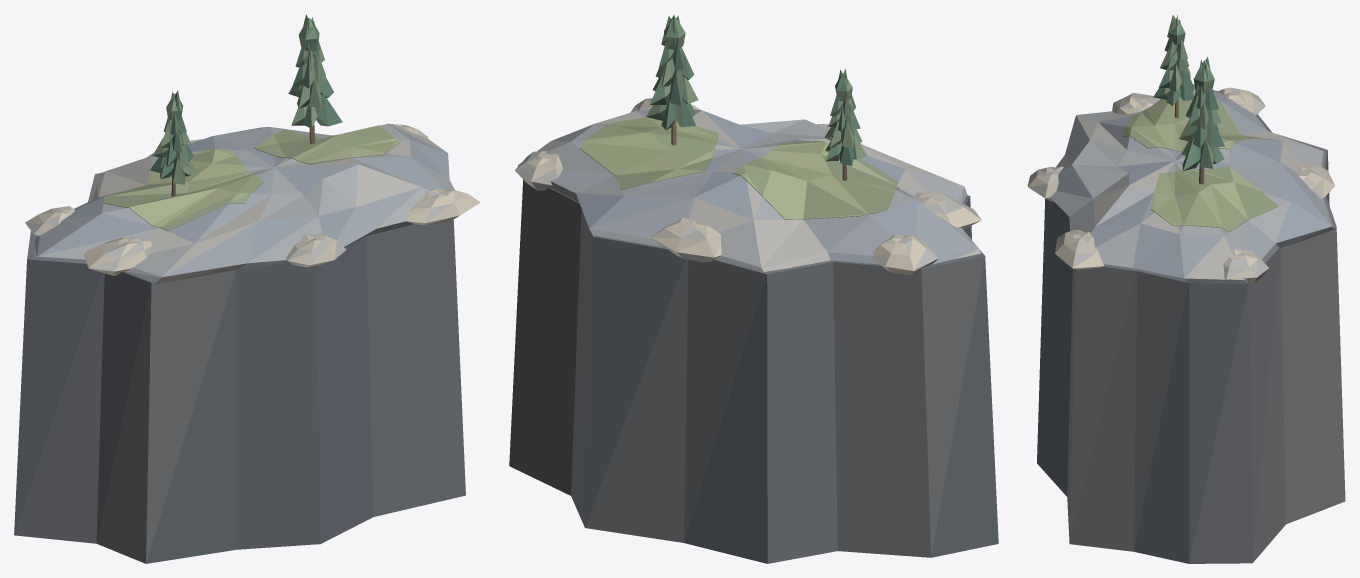
The model's file is island_near_right.glb.
The picture shows the model from 3 angles, left to right: view 1: azimuth 30°, elevation 25°; view 2: azimuth 150°, elevation 25°; view 3: azimuth 270°, elevation 25°; orthographic projection. The views are drawn at different scales.
Visible parts, largest first — view 1: island_near_right_rockroot, island_near_right_shoulder, island_near_right_grasscap_west, island_near_right_grasscap_east, island_near_right_wetshore_03, island_near_right_wetshore_05, island_near_right_wetshore_04, island_near_right_pine_02_crown_tier_00, island_near_right_pine_02_crown_tier_01, island_near_right_wetshore_02, island_near_right_pine_01_crown_tier_00, island_near_right_pine_02_crown_tier_02 (+1 smaller); view 2: island_near_right_rockroot, island_near_right_shoulder, island_near_right_grasscap_west, island_near_right_grasscap_east, island_near_right_wetshore_01, island_near_right_wetshore_02, island_near_right_wetshore_03, island_near_right_wetshore_00, island_near_right_pine_02_crown_tier_00, island_near_right_pine_02_crown_tier_01, island_near_right_pine_01_crown_tier_00, island_near_right_pine_02_crown_tier_02; view 3: island_near_right_rockroot, island_near_right_shoulder, island_near_right_grasscap_east, island_near_right_grasscap_west, island_near_right_wetshore_05, island_near_right_wetshore_00, island_near_right_pine_02_crown_tier_00, island_near_right_wetshore_01, island_near_right_pine_02_crown_tier_01, island_near_right_wetshore_04, island_near_right_wetshore_03, island_near_right_wetshore_02 (+3 smaller).
Part boxes in pixels (bbox=[...]): island_near_right_rockroot: bbox=[14, 172, 465, 563]; island_near_right_shoulder: bbox=[33, 124, 454, 284]; island_near_right_grasscap_west: bbox=[103, 148, 263, 231]; island_near_right_grasscap_east: bbox=[254, 125, 399, 164]; island_near_right_wetshore_03: bbox=[84, 237, 152, 275]; island_near_right_wetshore_05: bbox=[406, 189, 480, 225]; island_near_right_wetshore_04: bbox=[286, 233, 346, 267]; island_near_right_pine_02_crown_tier_00: bbox=[291, 94, 342, 128]; island_near_right_pine_02_crown_tier_01: bbox=[288, 77, 333, 108]; island_near_right_wetshore_02: bbox=[25, 206, 74, 236]; island_near_right_pine_01_crown_tier_00: bbox=[150, 154, 196, 184]; island_near_right_pine_02_crown_tier_02: bbox=[293, 54, 327, 88]; island_near_right_rockroot: bbox=[509, 179, 998, 563]; island_near_right_shoulder: bbox=[518, 109, 981, 271]; island_near_right_grasscap_west: bbox=[732, 140, 898, 219]; island_near_right_grasscap_east: bbox=[579, 117, 718, 189]; island_near_right_wetshore_01: bbox=[651, 217, 721, 262]; island_near_right_wetshore_02: bbox=[871, 234, 938, 275]; island_near_right_wetshore_03: bbox=[915, 192, 981, 228]; island_near_right_wetshore_00: bbox=[515, 151, 562, 190]; island_near_right_pine_02_crown_tier_00: bbox=[646, 97, 695, 130]; island_near_right_pine_02_crown_tier_01: bbox=[649, 71, 698, 105]; island_near_right_pine_01_crown_tier_00: bbox=[825, 134, 867, 165]; island_near_right_pine_02_crown_tier_02: bbox=[655, 49, 694, 89]; island_near_right_rockroot: bbox=[1037, 84, 1345, 563]; island_near_right_shoulder: bbox=[1050, 86, 1334, 283]; island_near_right_grasscap_east: bbox=[1150, 166, 1277, 232]; island_near_right_grasscap_west: bbox=[1123, 94, 1257, 151]; island_near_right_wetshore_05: bbox=[1055, 229, 1104, 269]; island_near_right_wetshore_00: bbox=[1223, 249, 1268, 284]; island_near_right_pine_02_crown_tier_00: bbox=[1182, 138, 1224, 171]; island_near_right_wetshore_01: bbox=[1298, 162, 1334, 198]; island_near_right_pine_02_crown_tier_01: bbox=[1179, 115, 1224, 147]; island_near_right_wetshore_04: bbox=[1027, 166, 1063, 201]; island_near_right_wetshore_03: bbox=[1112, 93, 1159, 114]; island_near_right_wetshore_02: bbox=[1216, 87, 1265, 115].
Bounding box in the file's own units: 40.39 × 39.96 × 25.9.
